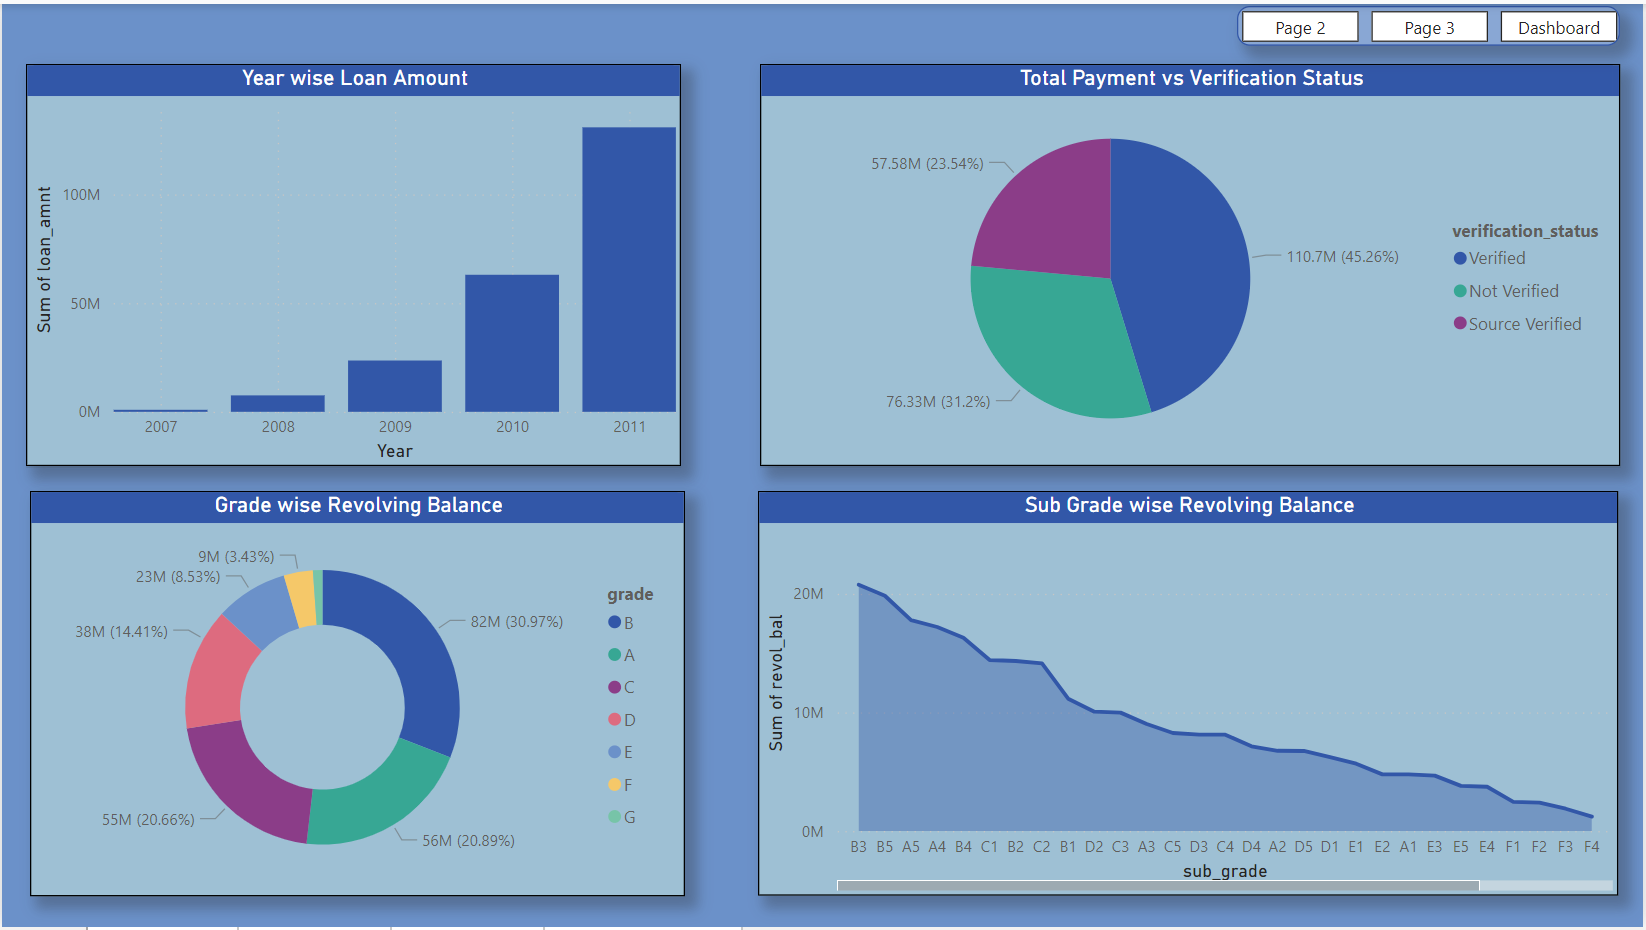

Layout of this report page (visuals, bound fields, positions):
{"tool":"powerbi","page":{"name":"Page 1","canvas":[1280,720],"ordinal":0},"visuals":[{"type":"columnChart","title":"Year wise Loan Amount","fields":{"Y":["Sum(lending_club.loan_amnt)"],"Category":["lending_club.issue_d.Variation.Date Hierarchy.Year","lending_club.issue_d.Variation.Date Hierarchy.Quarter","lending_club.issue_d.Variation.Date Hierarchy.Month","lending_club.issue_d.Variation.Date Hierarchy.Day"]},"box":[18.3,47.1,511.7,314.1],"z":0},{"type":"donutChart","title":"Grade wise Revolving Balance","fields":{"Category":["lending_club.grade"],"Y":["Sum(lending_club.revol_bal)"]},"box":[21.6,378.9,511.7,316.7],"z":1000},{"type":"stackedAreaChart","title":"Sub Grade wise Revolving Balance","fields":{"Category":["lending_club.sub_grade"],"Y":["Sum(lending_club.revol_bal)"]},"box":[590.9,379.6,670.8,316.1],"z":2000},{"type":"pieChart","title":"Total Payment vs Verification Status","fields":{"Y":["Sum(lending_club.total_pymnt)"],"Category":["lending_club.verification_status"]},"box":[592.2,47.1,670.8,314.1],"z":3000},{"type":"pageNavigator","box":[963.9,2,299.1,30.8],"z":4000}]}

Visuals, with their boxes in screenshot pixels (x1, y1, x2, y2), scaled from the page's 1280x720 canvas onto the 1646x930 screenshot:
"Year wise Loan Amount" columnChart: [x1=24, y1=61, x2=682, y2=467]
"Grade wise Revolving Balance" donutChart: [x1=28, y1=489, x2=686, y2=898]
"Sub Grade wise Revolving Balance" stackedAreaChart: [x1=760, y1=490, x2=1622, y2=899]
"Total Payment vs Verification Status" pieChart: [x1=762, y1=61, x2=1624, y2=467]
pageNavigator: [x1=1240, y1=3, x2=1624, y2=42]
